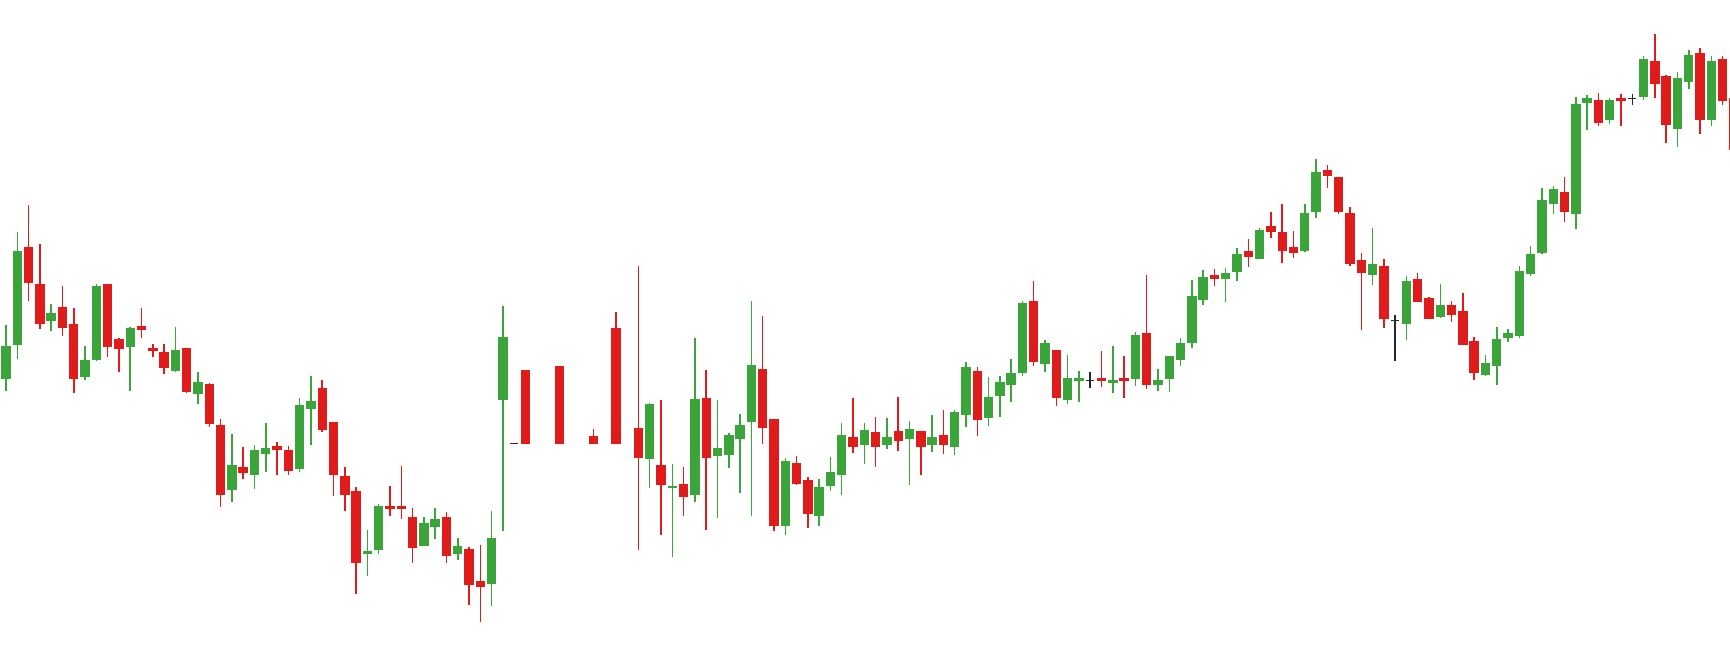buy: (1388, 290, 1505, 386)
